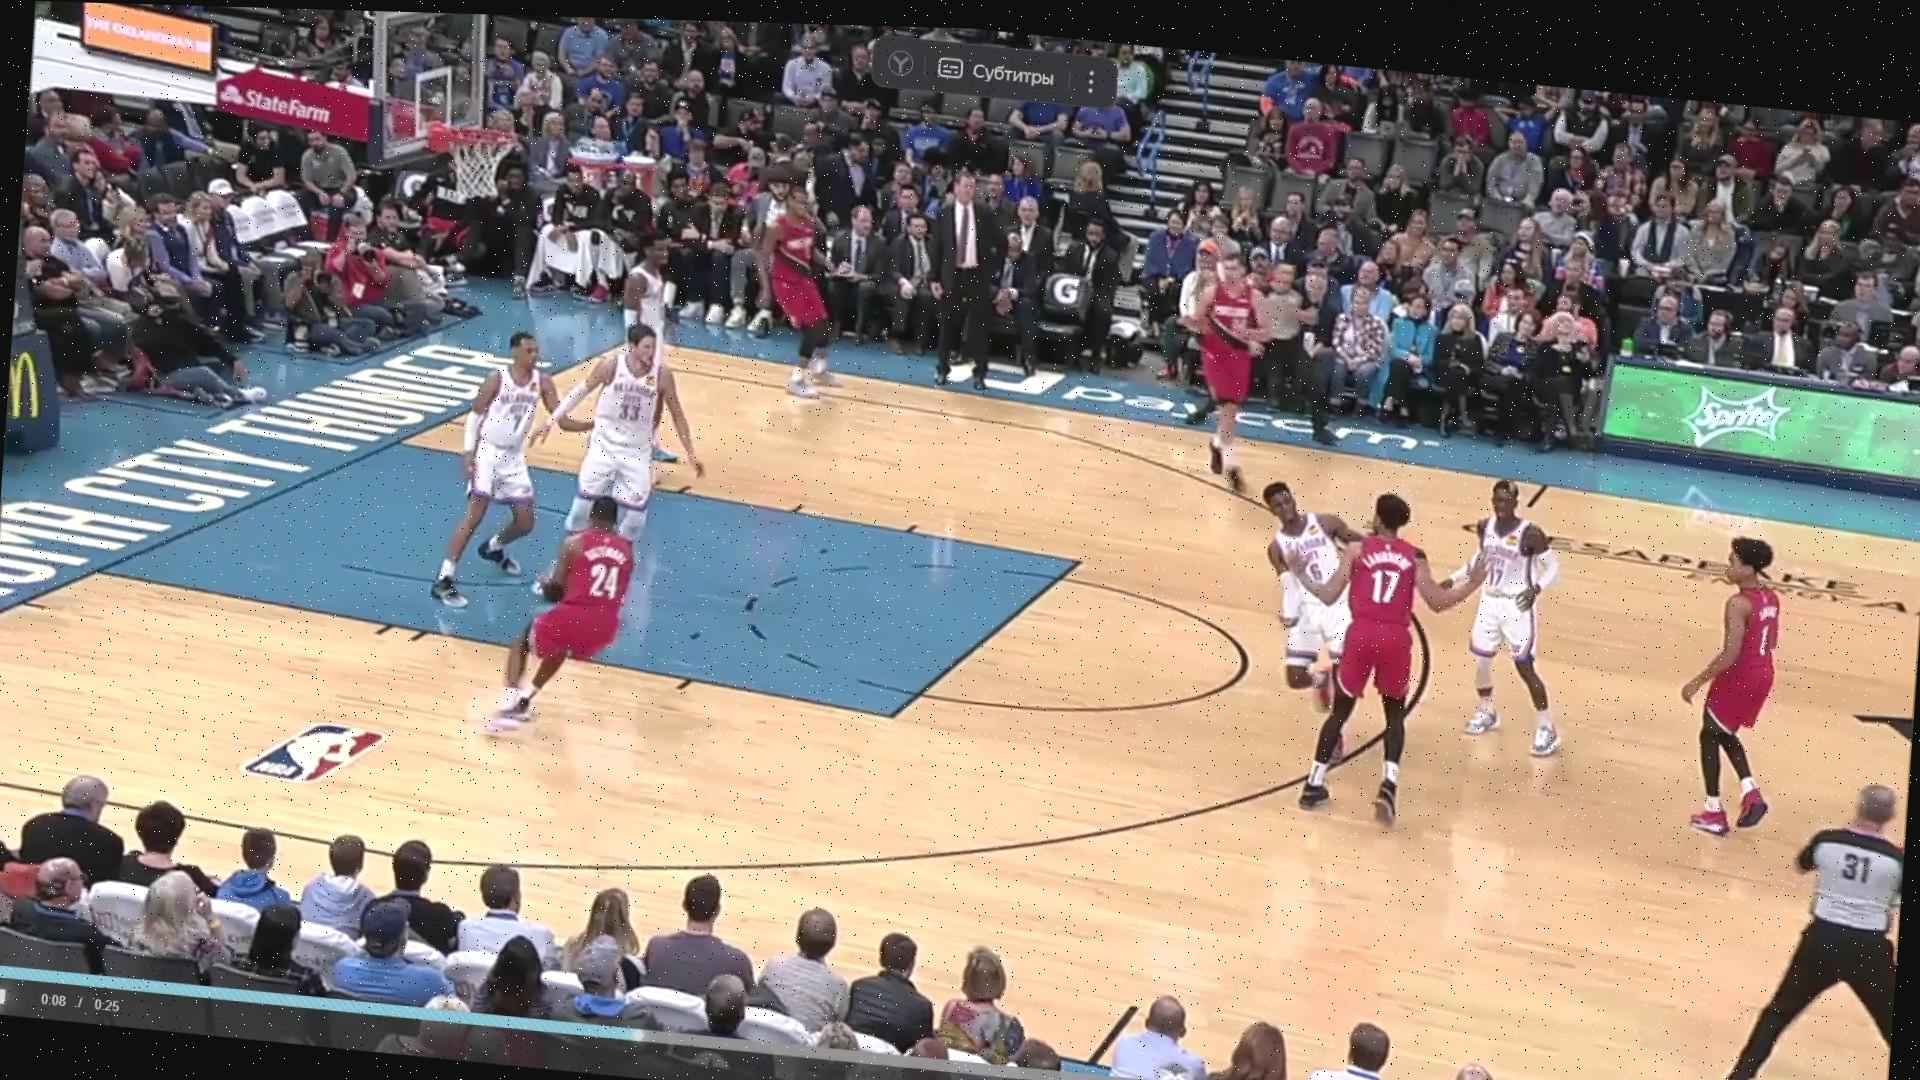no_foul: (1207, 463, 1464, 870)
